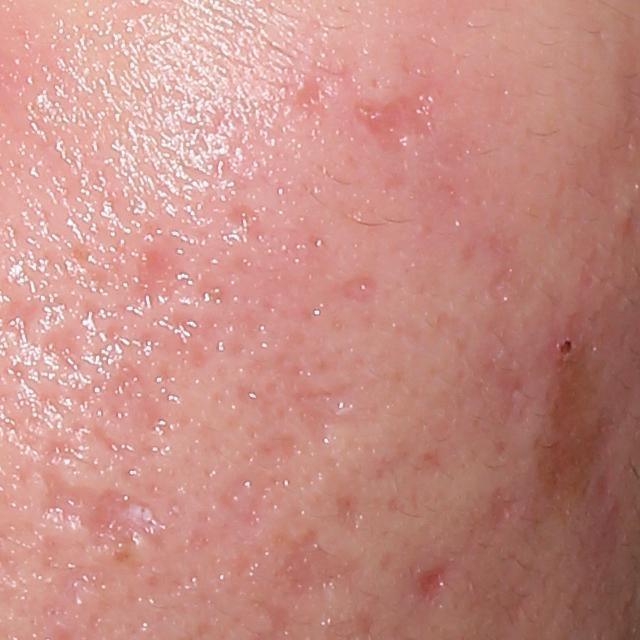atrophic_scar: (7, 463, 206, 565), (278, 68, 459, 178), (260, 523, 365, 602), (472, 331, 530, 472), (277, 355, 369, 441), (130, 237, 182, 315), (37, 326, 93, 381), (231, 199, 273, 259), (483, 264, 524, 305), (487, 483, 519, 535), (327, 271, 371, 302), (412, 568, 451, 602), (338, 492, 367, 531)
